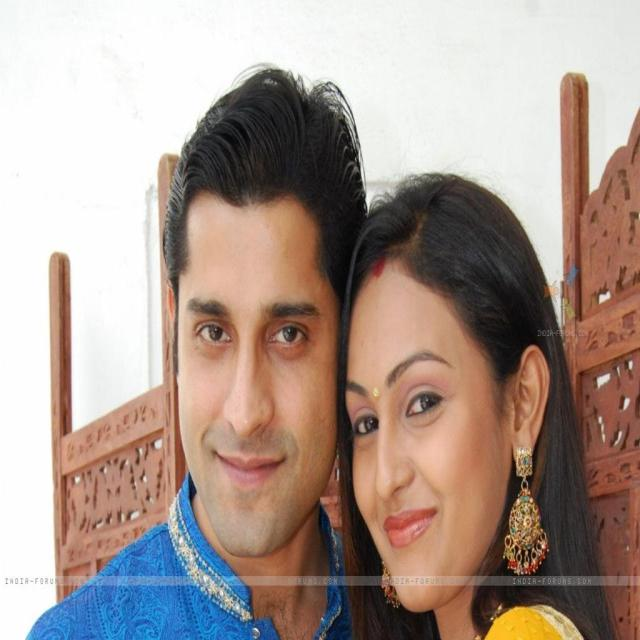Face: (177, 216, 330, 541), (355, 274, 494, 607)
